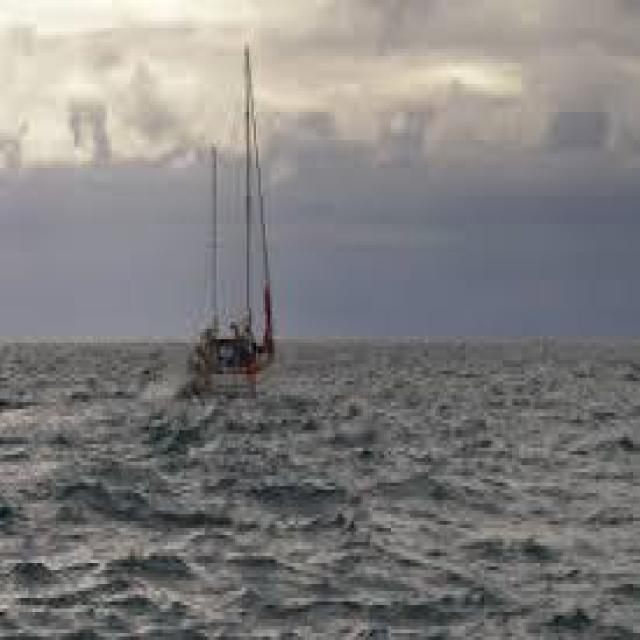fishing boat: (169, 53, 278, 408)
